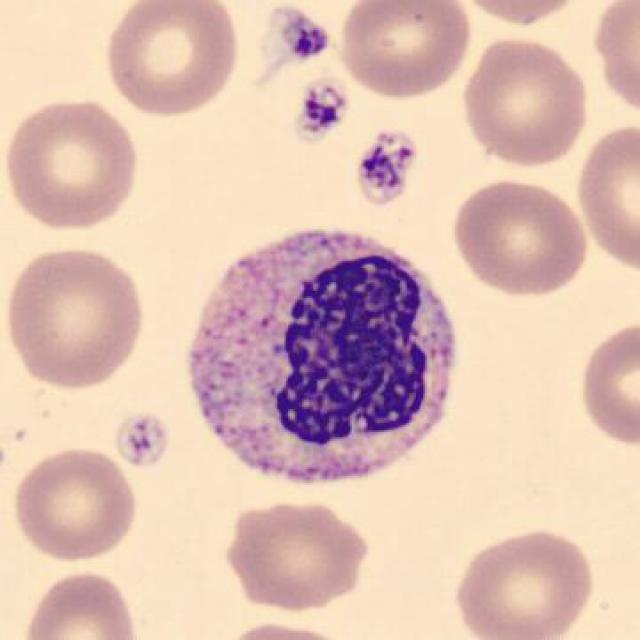Platelets: (352, 125, 421, 214), (292, 80, 348, 144), (278, 12, 332, 62)
RBC: (4, 243, 151, 393), (4, 95, 144, 235), (457, 34, 594, 171), (217, 496, 373, 616), (446, 174, 592, 300), (448, 522, 599, 640), (102, 2, 246, 120), (7, 443, 142, 564), (338, 2, 474, 100), (574, 120, 638, 273), (20, 566, 140, 640), (574, 317, 638, 453), (457, 0, 583, 26), (215, 619, 356, 640)
